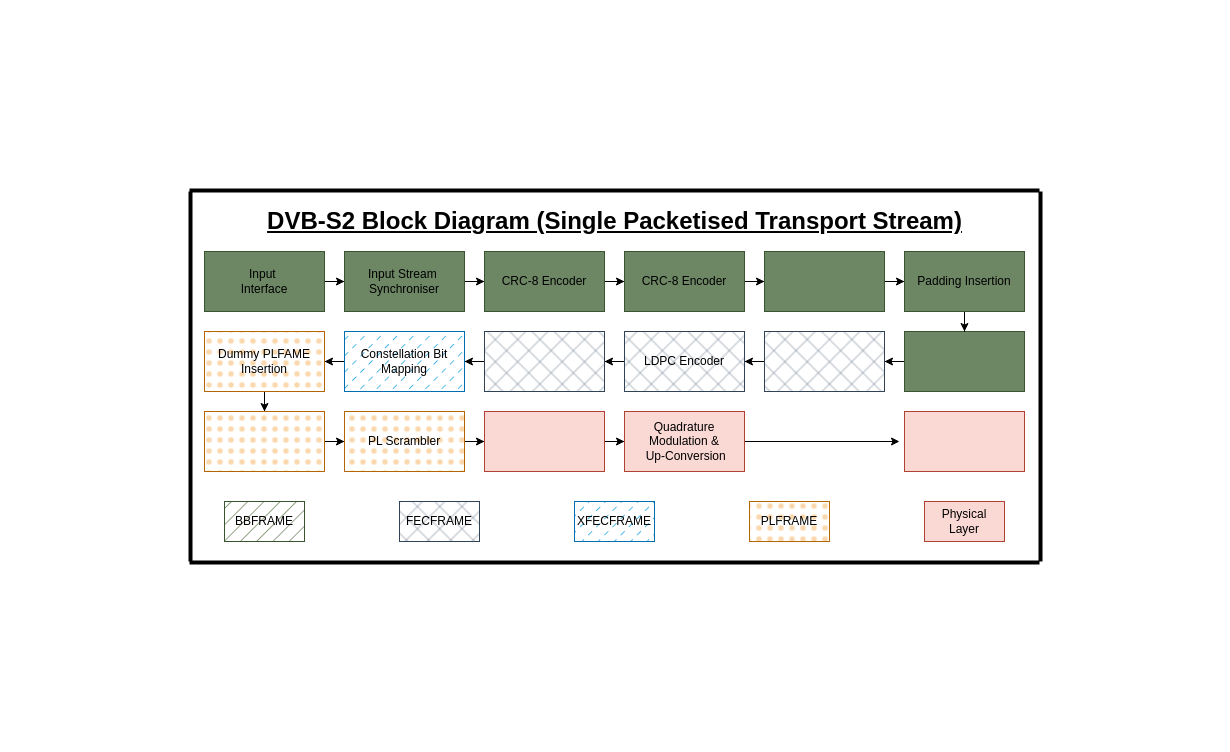
Some shapes in this 1230 by 752 pixel diagram are drawn without their labels. The shapes that lost their labels are listed below. From the top down, each one's centre as x and y in pixels, then its label:
the point at 824,281: BBHEADER Insertion
the point at 544,361: Bit Interleaver
the point at 824,361: BCH Encoder
the point at 964,361: BB Scrambler
the point at 264,441: PL Signallng + Pilot Insertion
the point at 544,441: BB Filtering
the point at 964,441: RF Output
